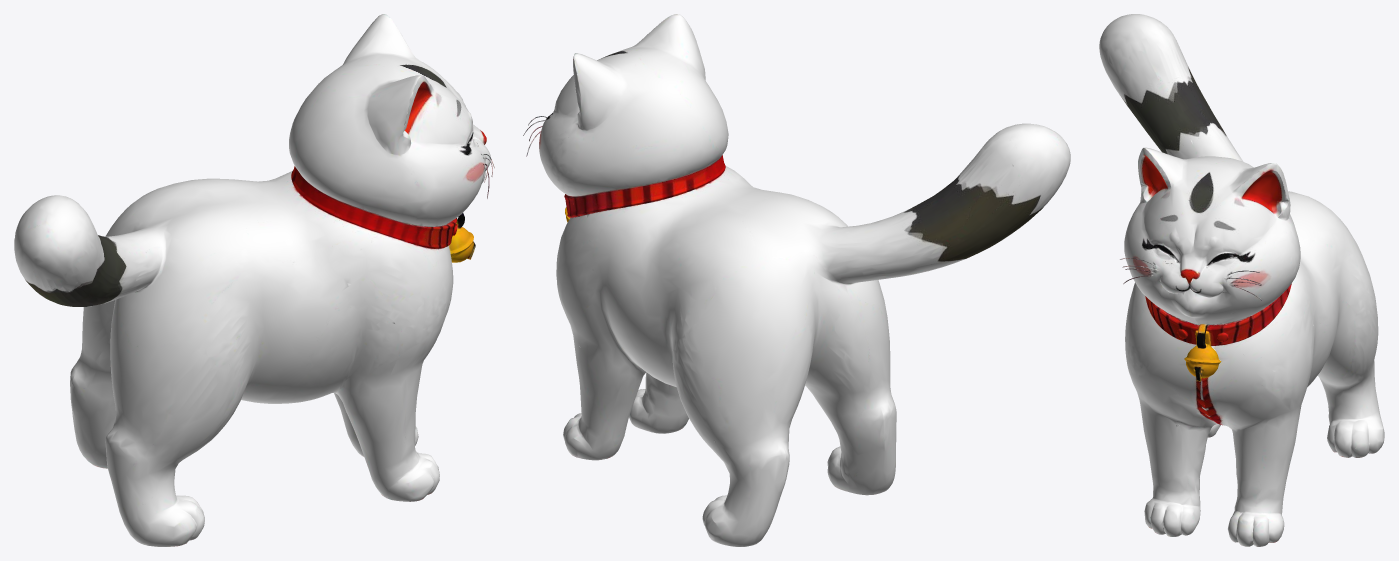
File: maneki.glb
The picture shows the model from 3 angles, left to right: view 1: azimuth 30°, elevation 25°; view 2: azimuth 150°, elevation 25°; view 3: azimuth 270°, elevation 25°; orthographic projection. The views are drawn at different scales.
Parts seen in each view (by area): view 1: fit; view 2: fit; view 3: fit.
Boxes of the visible parts, x1,y1,x2,y2 form: fit: (14,14,494,546); fit: (523,14,1070,546); fit: (1099,14,1384,546).
Size of the model in its own units: 1.23 by 0.9996 by 0.6791.
Materials: 1 (1 with a texture image).
